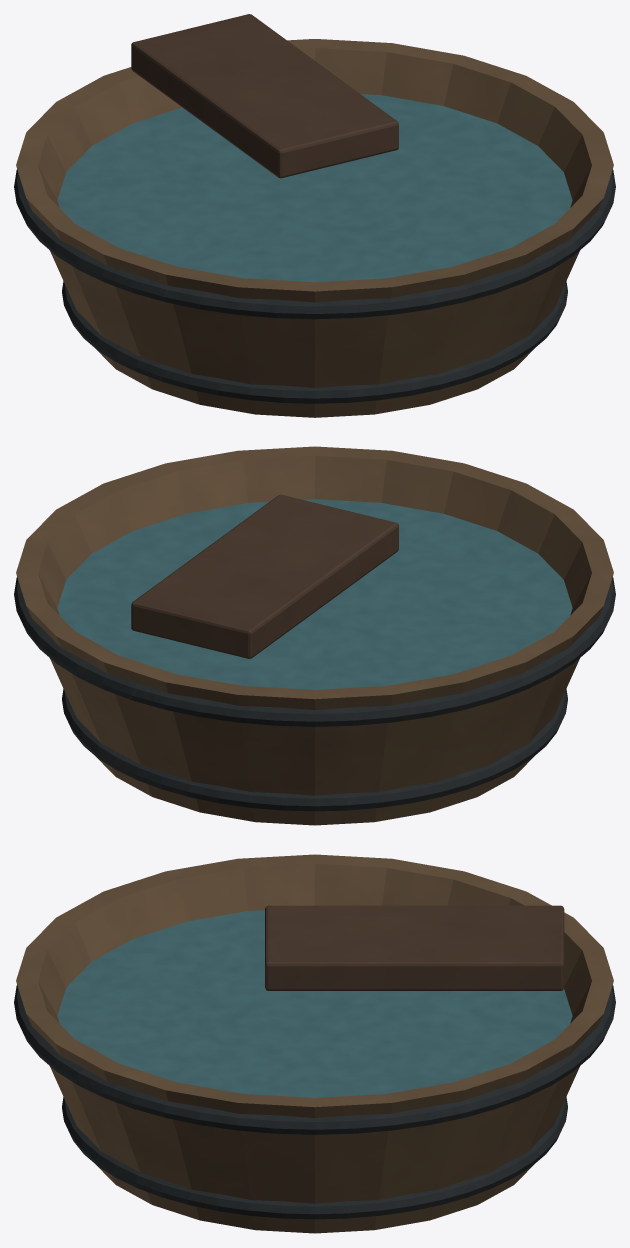
Rendered from Wash_Tub.fbx.
3 renders of one model, top to bottom at view 1: azimuth 30°, elevation 25°; view 2: azimuth 150°, elevation 25°; view 3: azimuth 270°, elevation 25°, orthographic.
Visible parts, largest first — view 1: Wash_Tub.001; view 2: Wash_Tub.001; view 3: Wash_Tub.001.
Boxes of the visible parts, left/top/right/bottom form: Wash_Tub.001: left=14, top=14, right=615, bottom=417; Wash_Tub.001: left=14, top=446, right=615, bottom=825; Wash_Tub.001: left=14, top=854, right=615, bottom=1233.
Size of the model in its own units: 1.51 by 0.56 by 1.51.
